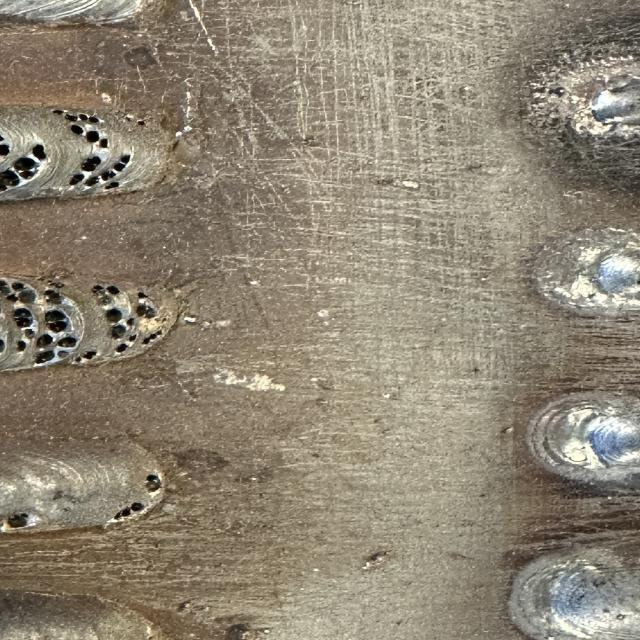Excess Reinforcement: (525, 392, 608, 471)
Porosity: (0, 278, 83, 366), (70, 123, 108, 149), (52, 109, 103, 123), (105, 308, 127, 339), (12, 156, 40, 180), (135, 291, 158, 319), (92, 285, 120, 306), (113, 502, 145, 519), (0, 169, 20, 191), (142, 325, 163, 345), (72, 350, 98, 364), (113, 154, 132, 171), (82, 155, 102, 171), (145, 474, 162, 492), (0, 132, 12, 157), (7, 514, 28, 528), (32, 144, 47, 160), (68, 172, 85, 185), (45, 281, 65, 291), (100, 170, 117, 181), (0, 338, 10, 354), (85, 176, 98, 186), (105, 181, 120, 189), (127, 318, 137, 329), (115, 344, 128, 352), (128, 334, 137, 342)
Spatters: (363, 550, 388, 569), (177, 600, 192, 612), (255, 628, 272, 636), (102, 92, 112, 104), (183, 316, 197, 324), (247, 280, 260, 286), (123, 114, 133, 121), (137, 119, 145, 126), (98, 436, 107, 442), (473, 366, 478, 373), (162, 244, 167, 249)
